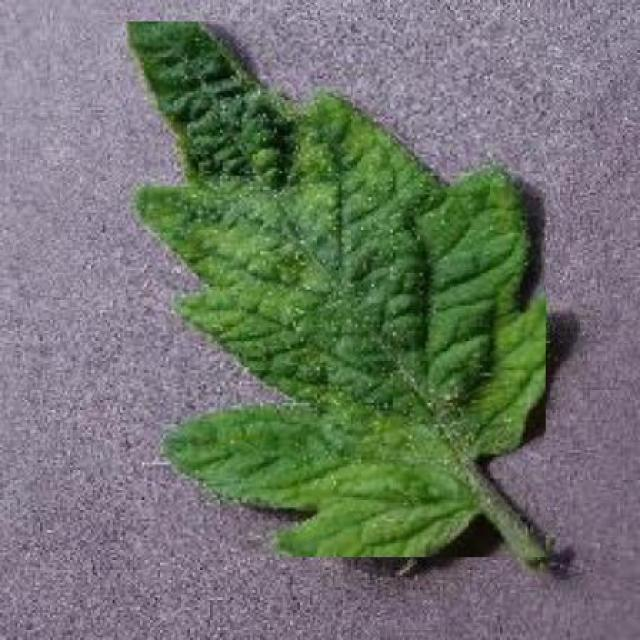Mosaic Virus: (126, 22, 546, 557)
